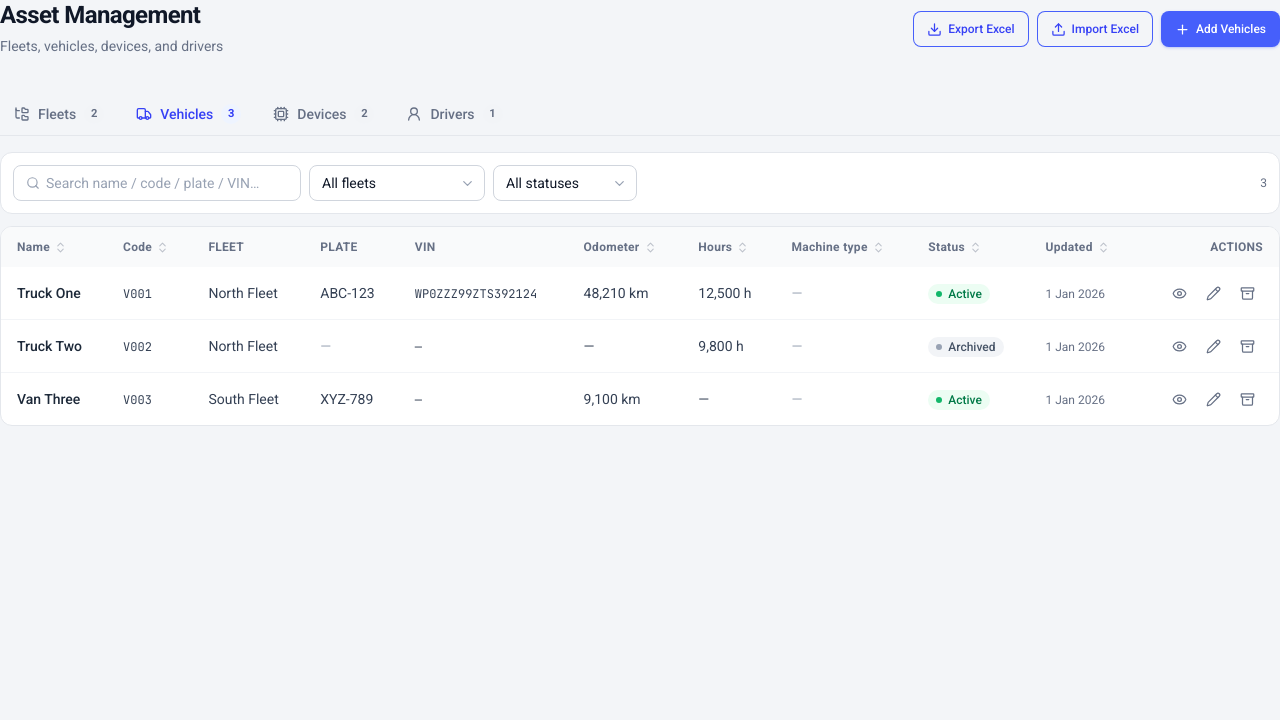
Test case: AssetManagementPage › confirms archiving with archive wording (soft delete)
Check: the text "Truck One" is shown, box [17,285,81,301]
Click the button named "Archive" in the row of "Truck One" at (1247, 293), box [1231,277,1263,309]
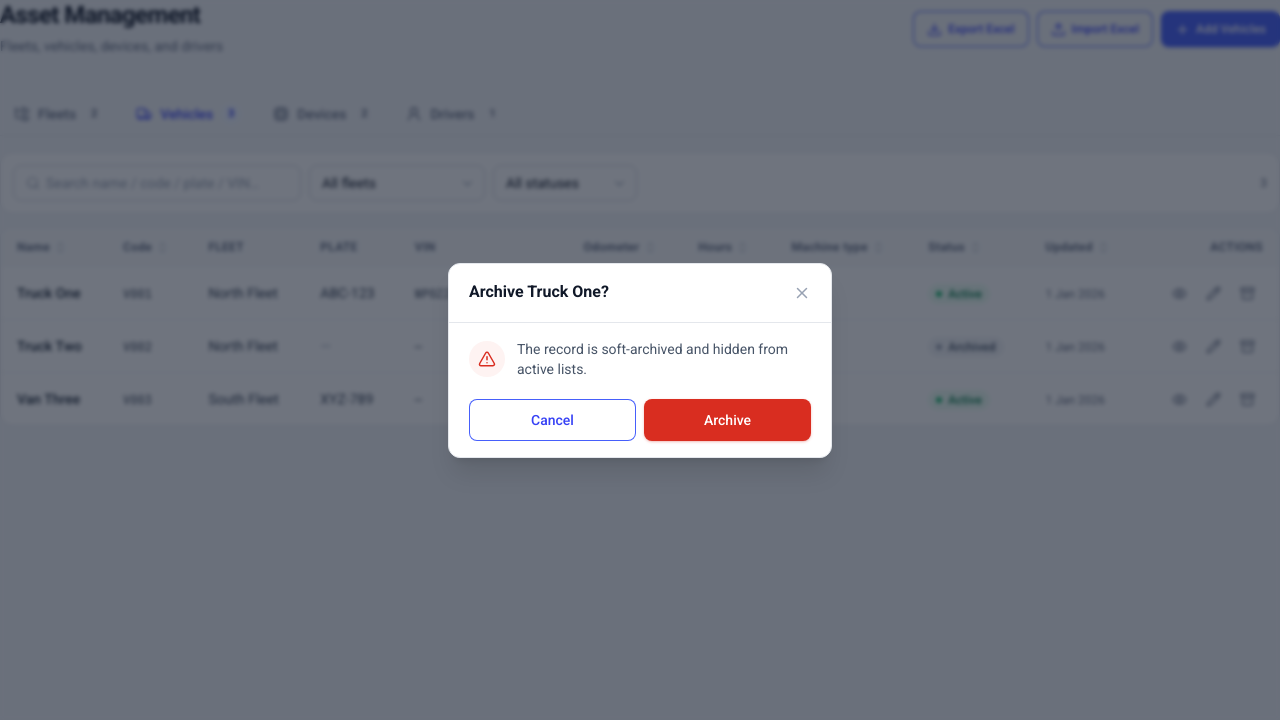
Check: the heading "Archive Truck One?" is shown, box [469,280,609,304]
